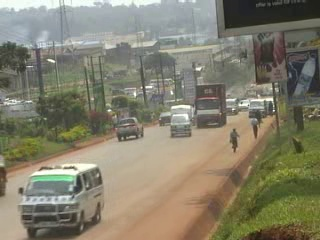Car: (154, 110, 174, 126), (223, 96, 238, 116), (236, 97, 250, 111)
